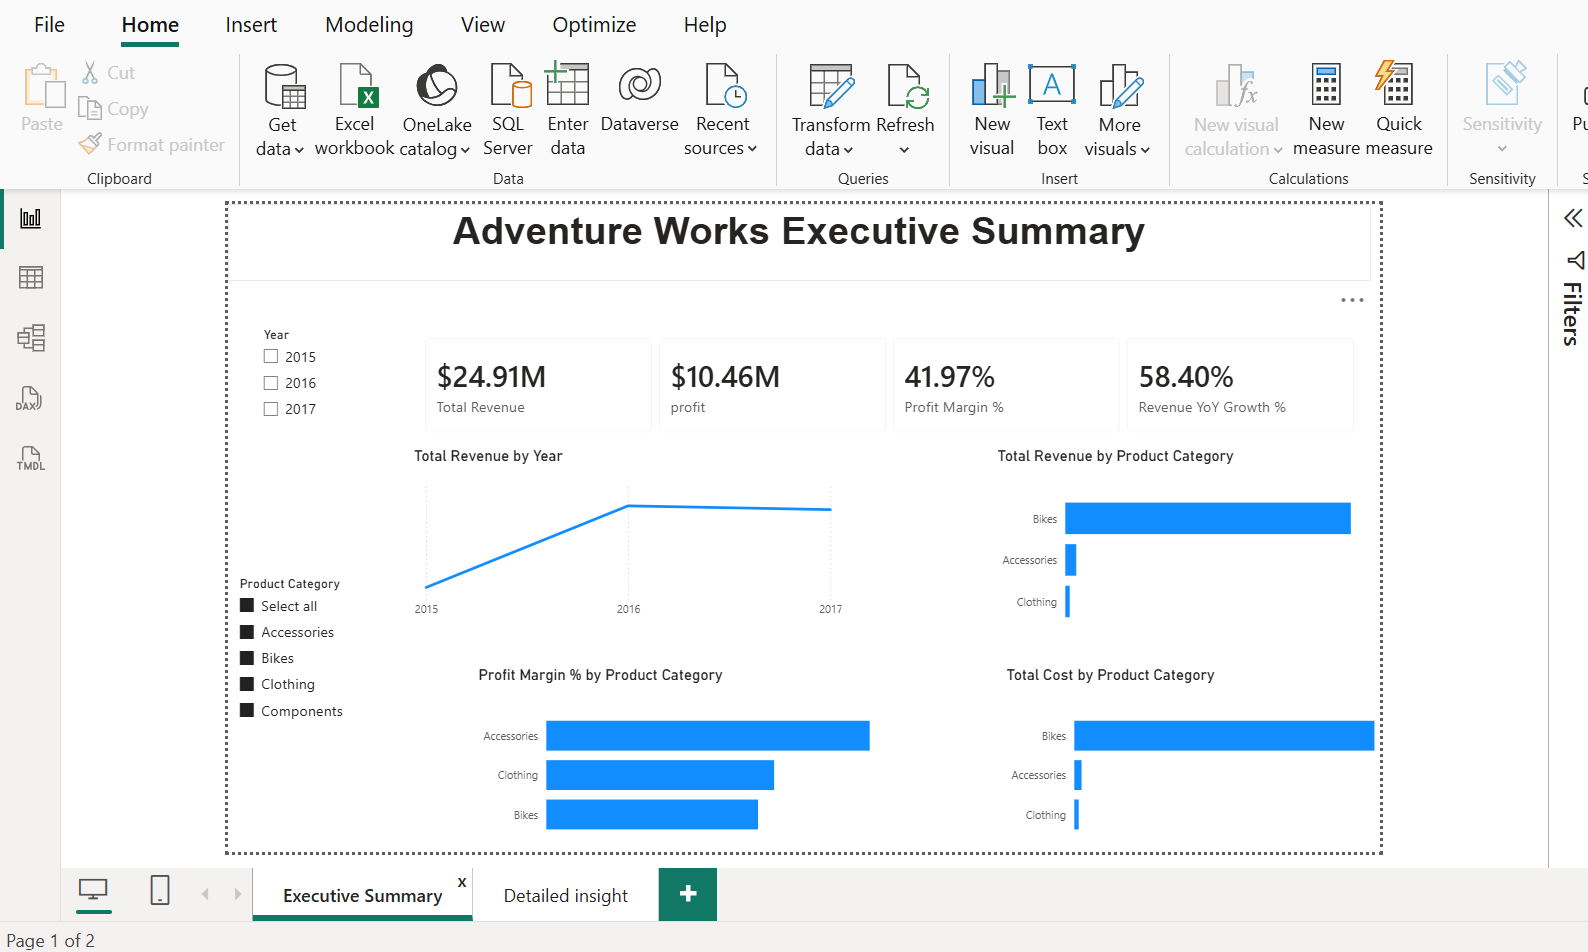

This screenshot's page, from the dashboard's own definition file:
{"tool":"powerbi","page":{"name":"Executive Summary","canvas":[1280,720],"ordinal":0},"visuals":[{"type":"cardVisual","fields":{"Data":["_Measures.Total Revenue","_Measures.profit","_Measures.Profit Margin %","_Measures.Revenue YoY Growth %"]},"box":[201.6,131,1068.5,139.7],"z":0},{"type":"lineChart","fields":{"Category":["Dim_Date.Year"],"Y":["_Measures.Total Revenue"]},"box":[201.6,269.3,485.3,198.7],"z":1000},{"type":"clusteredBarChart","title":"Total Revenue by Product Category","fields":{"Category":["Products.CategoryName"],"Y":["_Measures.Total Revenue"]},"box":[849.6,269.3,420.5,214.6],"z":2000},{"type":"clusteredBarChart","title":"Profit Margin % by Product Category","fields":{"Category":["Products.CategoryName"],"Y":["_Measures.Profit Margin %"]},"box":[273.6,514.1,485.3,205.9],"z":3000},{"type":"clusteredBarChart","title":"Total Cost by Product Category","fields":{"Category":["Products.CategoryName"],"Y":["_Measures.Total Cost"]},"box":[859.7,514.1,420.5,205.9],"z":4000},{"type":"textbox","box":[0,0,1270.1,85],"z":5000},{"type":"slicer","fields":{"Values":["Dim_Date.Year"]},"box":[25.9,131,123.8,158.4],"z":6000},{"type":"slicer","fields":{"Values":["Products.CategoryName"]},"box":[0,409,149.8,198.7],"z":7000}]}

Visuals, with their boxes on the page's 1280x720 design canvas (x1, y1, x2, y2). These are canvas units, not pixel positions in the 1588x952 screenshot, which may show the page scaled, cropped or inside an application window:
cardVisual - _Measures.Total Revenue x _Measures.profit: crop(202, 131, 1270, 271)
lineChart - Dim_Date.Year x _Measures.Total Revenue: crop(202, 269, 687, 468)
"Total Revenue by Product Category" clusteredBarChart: crop(850, 269, 1270, 484)
"Profit Margin % by Product Category" clusteredBarChart: crop(274, 514, 759, 720)
"Total Cost by Product Category" clusteredBarChart: crop(860, 514, 1280, 720)
textbox: crop(0, 0, 1270, 85)
slicer - Dim_Date.Year: crop(26, 131, 150, 289)
slicer - Products.CategoryName: crop(0, 409, 150, 608)
